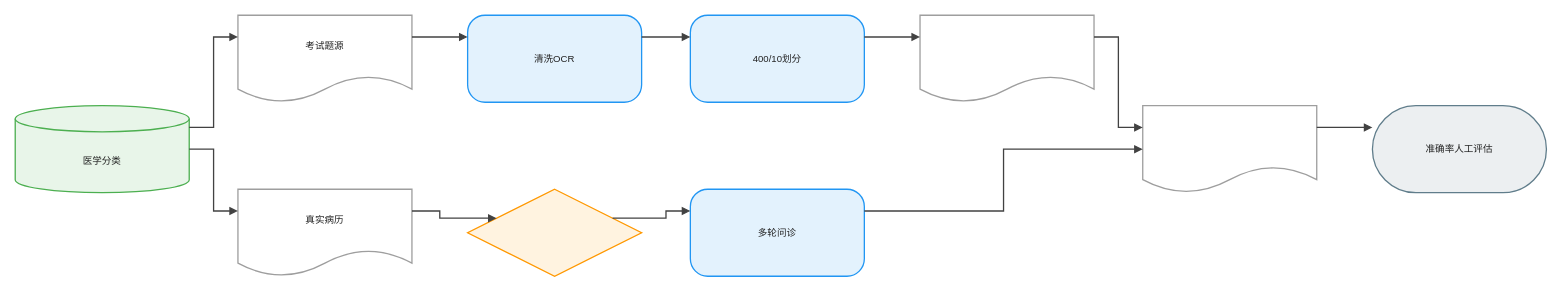
This 1563x292 diagram has some shape labels left out. Each missing label, with the centre of its shape:
CMB基准: (1229,149)
专家解释: (1006,58)
病例筛选: (554,232)
